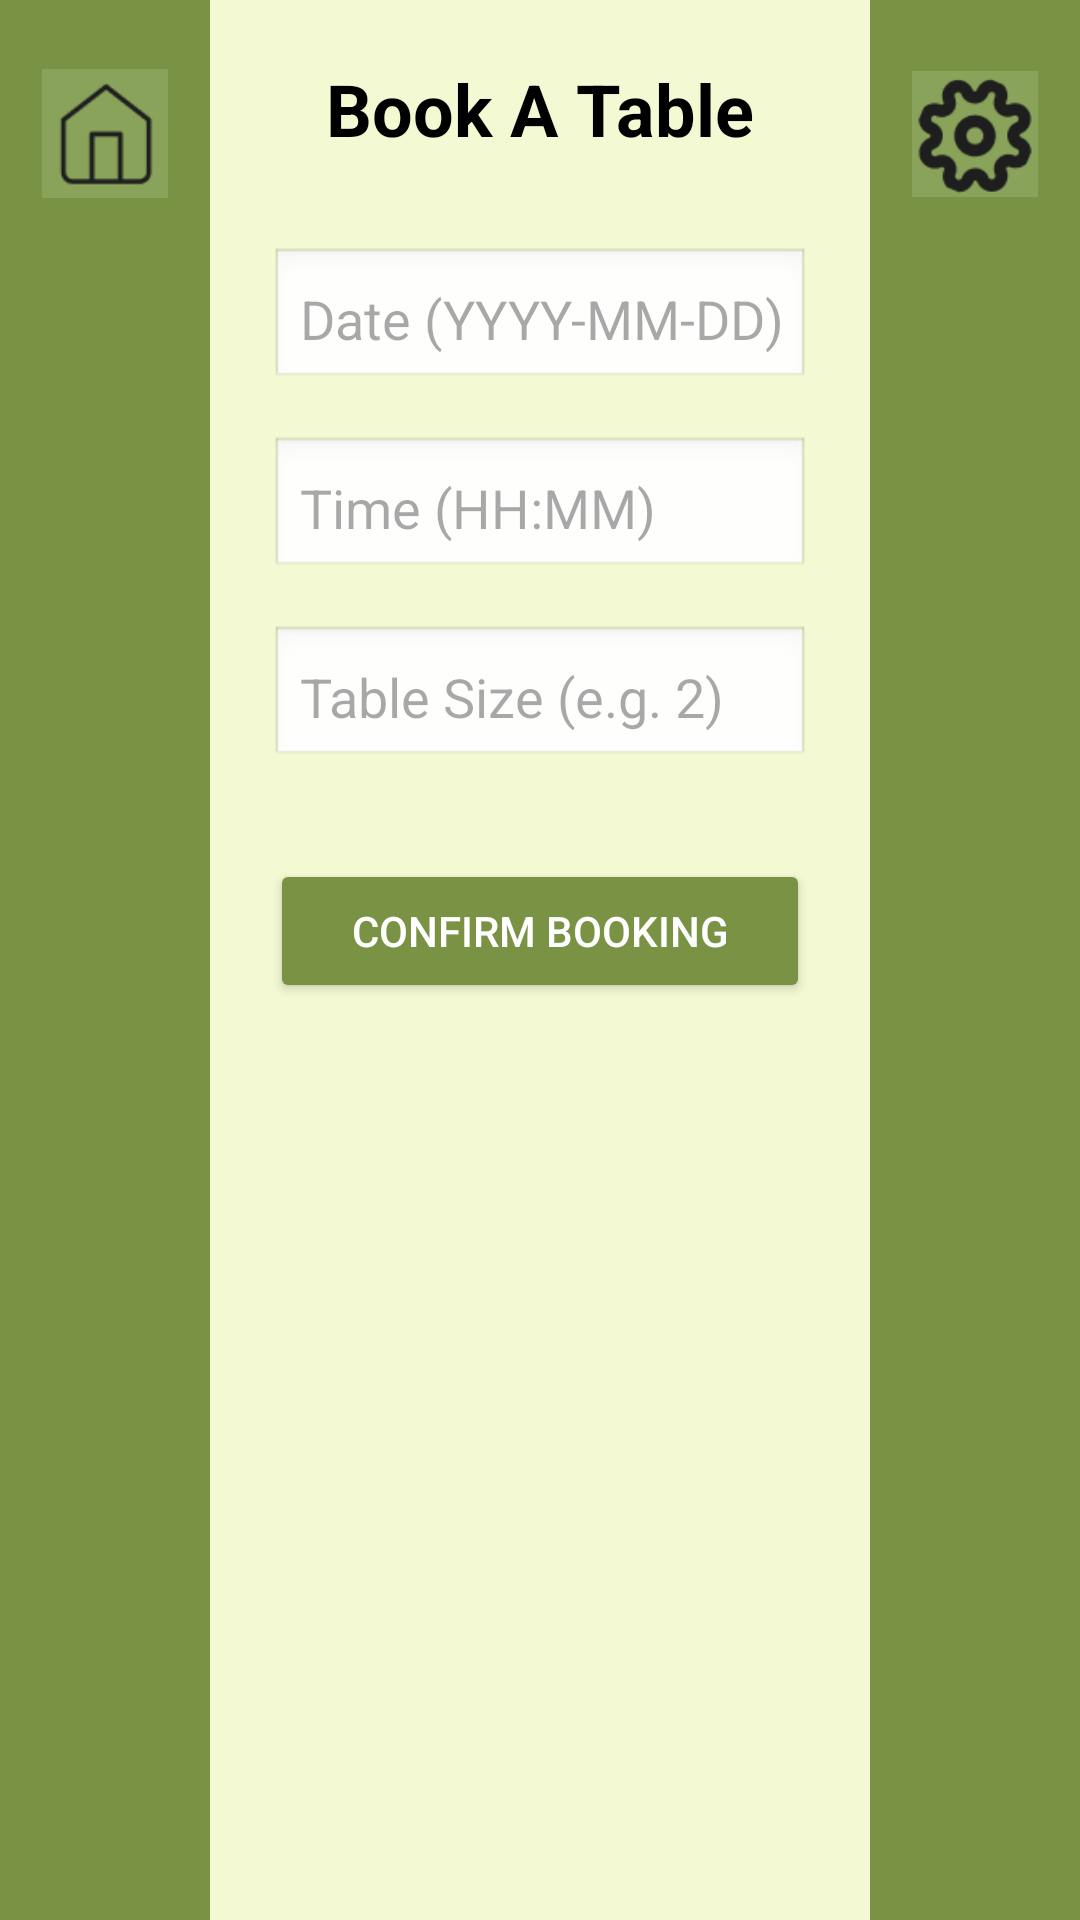

Screen size 1080px×1920px. Icon name, then its center in pixels as point (x, y):
home: point (105, 133)
settings: point (975, 136)
